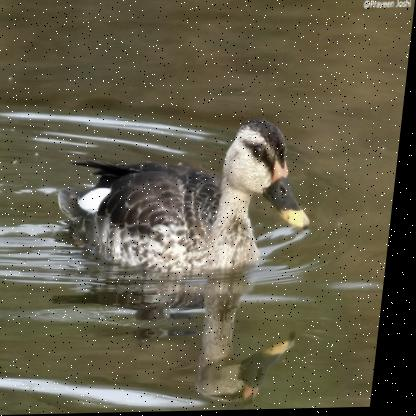Burung: (54, 119, 323, 272)
